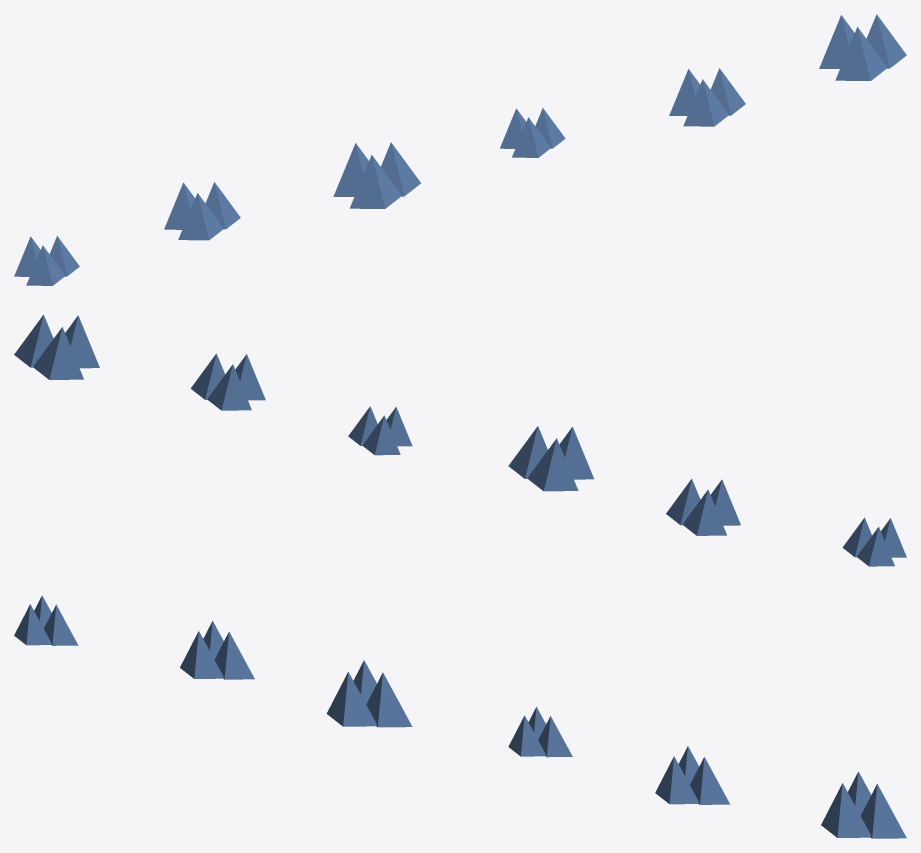
3 views of the same model, one above another, from view 1: azimuth 30°, elevation 25°; view 2: azimuth 150°, elevation 25°; view 3: azimuth 330°, elevation 25° (orthographic). The views are drawn at different scales.
Visible parts, largest first — view 1: 低矮山脚折叶_snow.001; view 2: 低矮山脚折叶_snow.001; view 3: 低矮山脚折叶_snow.001.
Part boxes in pixels (x1=…): 低矮山脚折叶_snow.001: x1=14, y1=14, x2=906, y2=285; 低矮山脚折叶_snow.001: x1=14, y1=314, x2=906, y2=566; 低矮山脚折叶_snow.001: x1=14, y1=595, x2=906, y2=838.
Bounding box in the file's own units: 2.66 × 0.138 × 0.2291.
